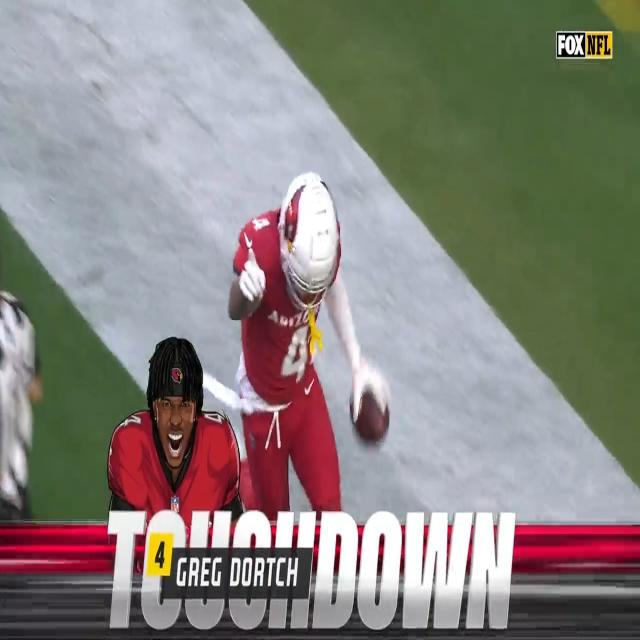Player: (225, 177, 347, 488)
